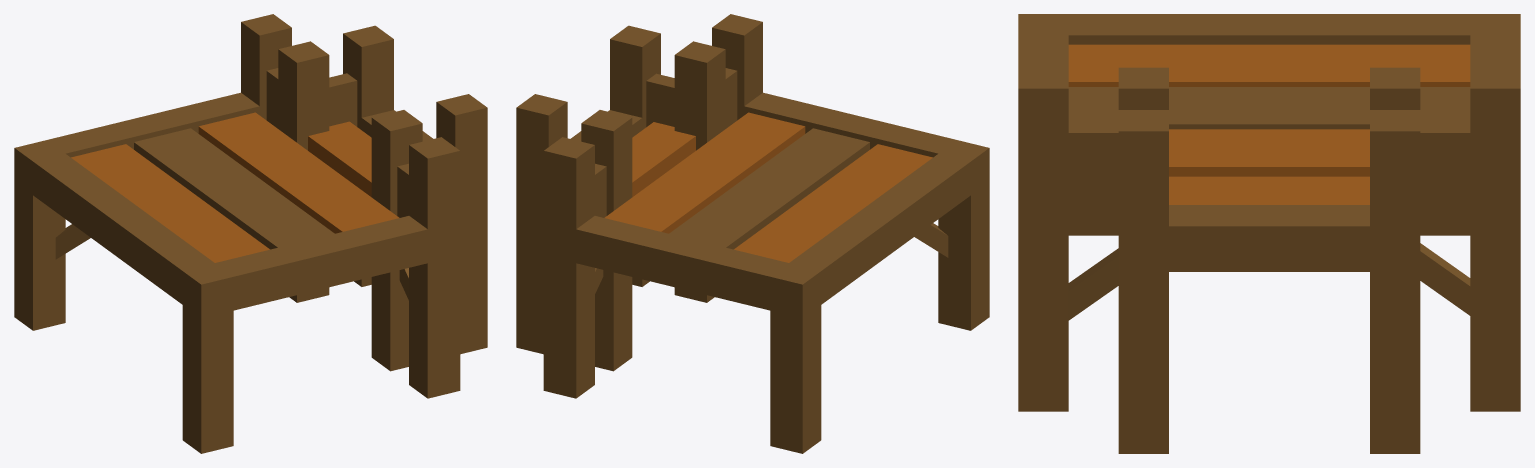
File: ThreeWayHalfFilled.fbx
The picture shows the model from 3 angles, left to right: view 1: azimuth 30°, elevation 25°; view 2: azimuth 150°, elevation 25°; view 3: azimuth 270°, elevation 25°; orthographic projection. The views are drawn at different scales.
Visible parts, largest first — view 1: Bridge - Three-way Half Filled; view 2: Bridge - Three-way Half Filled; view 3: Bridge - Three-way Half Filled.
Part boxes in pixels (<box>): Bridge - Three-way Half Filled: <box>14,14,487,453</box>; Bridge - Three-way Half Filled: <box>516,14,989,453</box>; Bridge - Three-way Half Filled: <box>1018,14,1520,453</box>.
Bounding box in the file's own units: 100 × 70.89 × 100.
